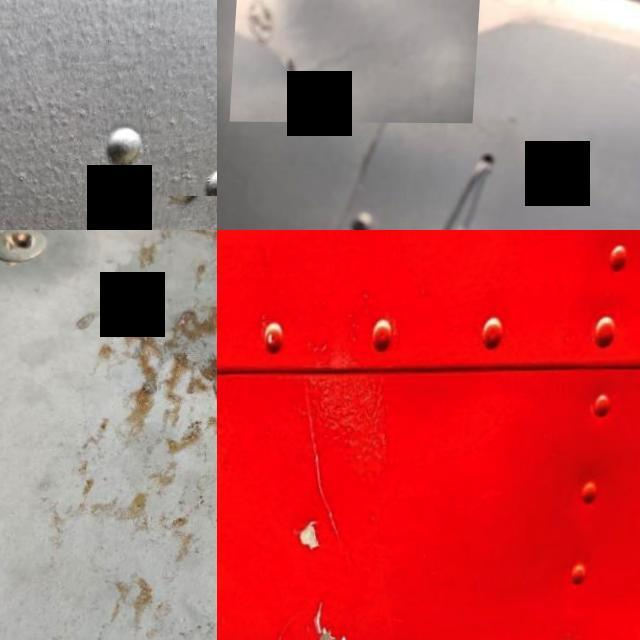Dent: (234, 0, 487, 122), (308, 387, 349, 548), (320, 600, 345, 640), (303, 519, 325, 551)
Missing_Fastener: (179, 251, 217, 375)
